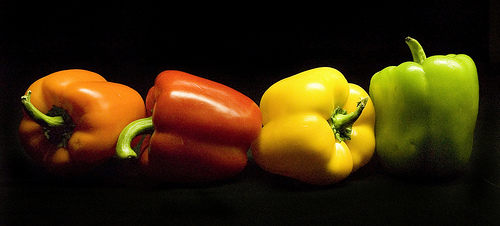capsicum: (131, 69, 262, 210), (366, 35, 478, 168), (255, 65, 376, 187), (16, 69, 147, 180)
